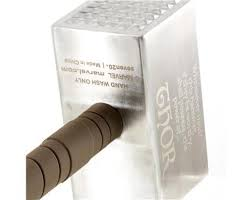THOR Hammer: (51, 4, 204, 190), (79, 109, 109, 121)
